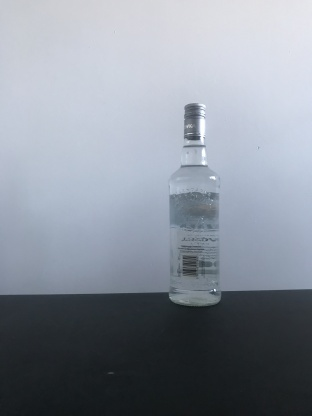nakretka: (182, 101, 207, 140)
